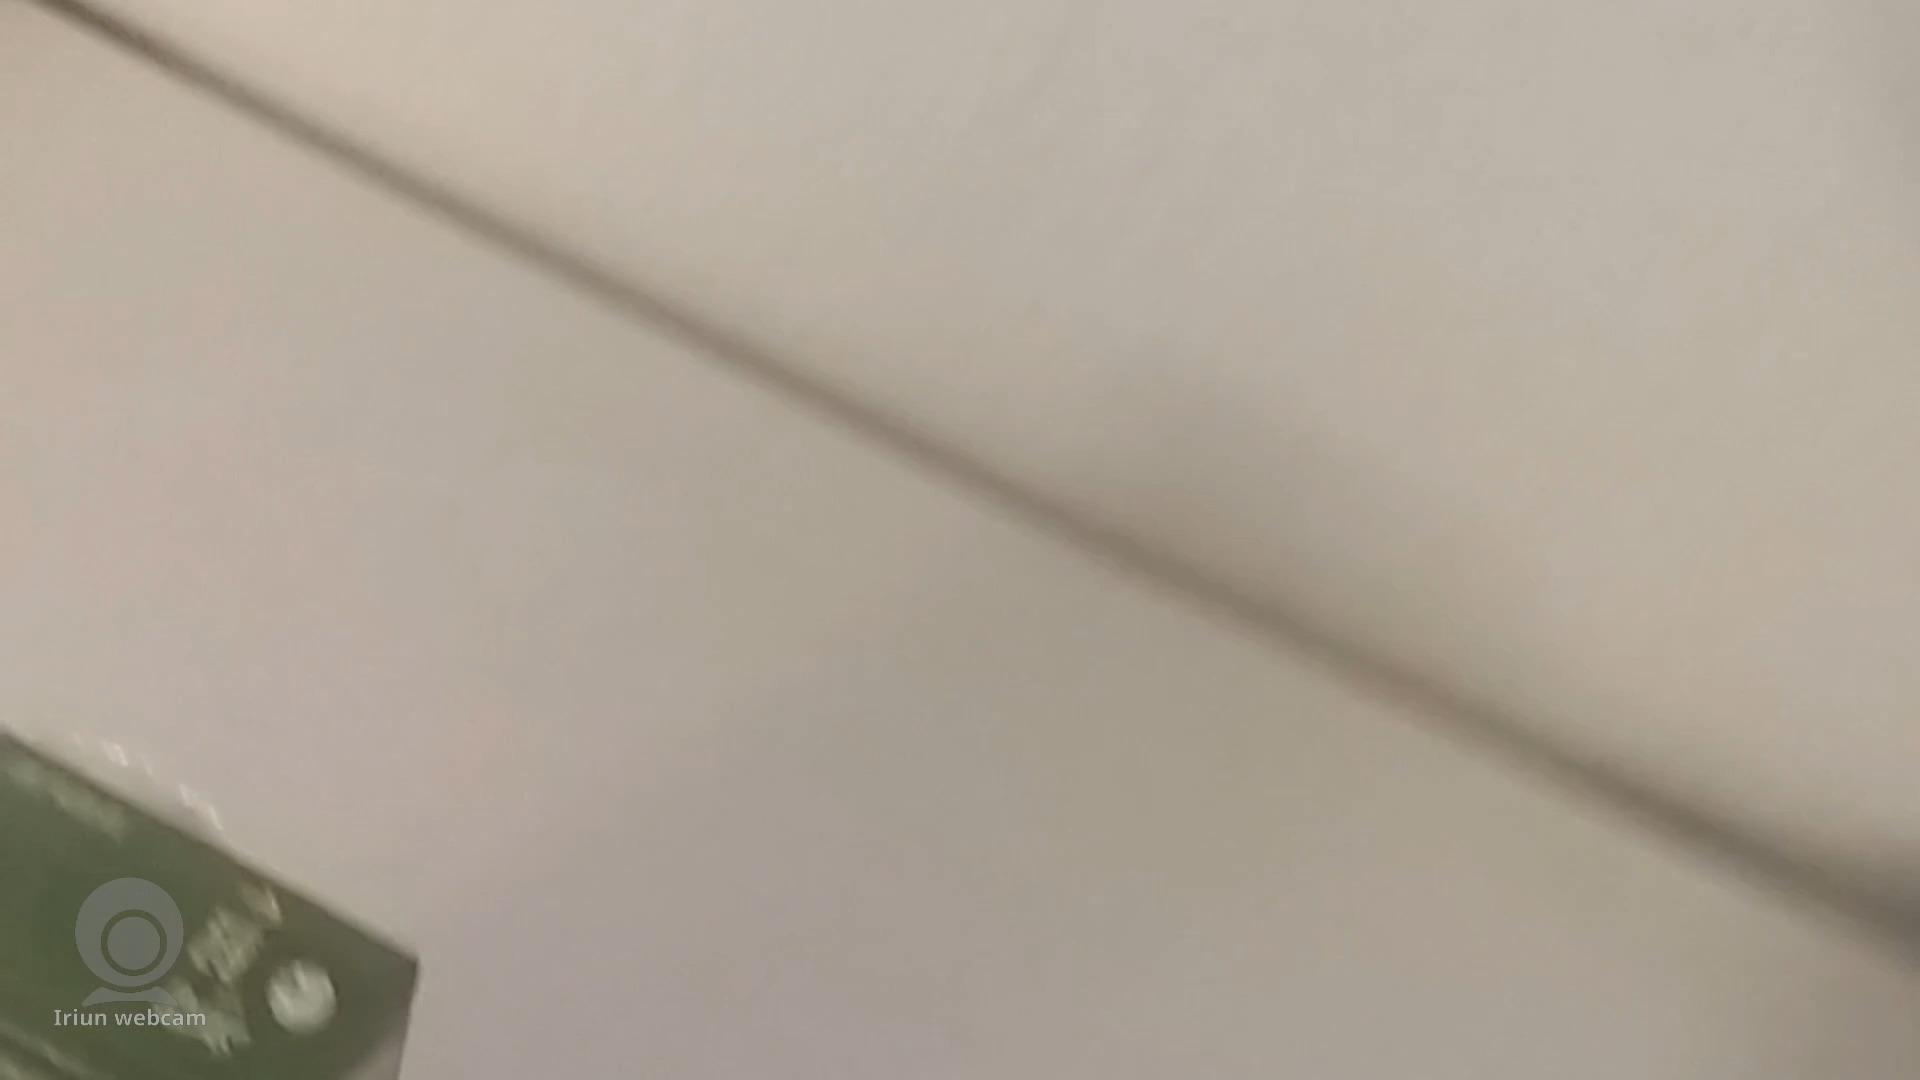coco: (0, 712, 430, 1080)
